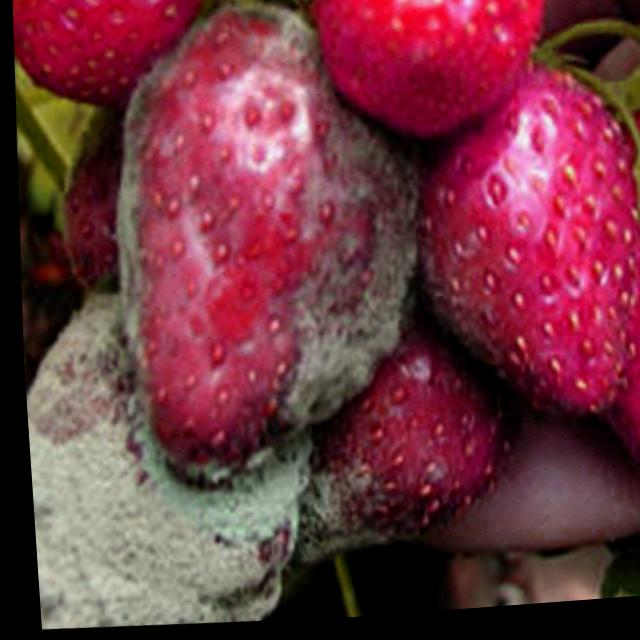Gray Mold: (112, 9, 416, 492), (20, 290, 302, 629), (287, 308, 517, 565), (409, 204, 624, 418)
